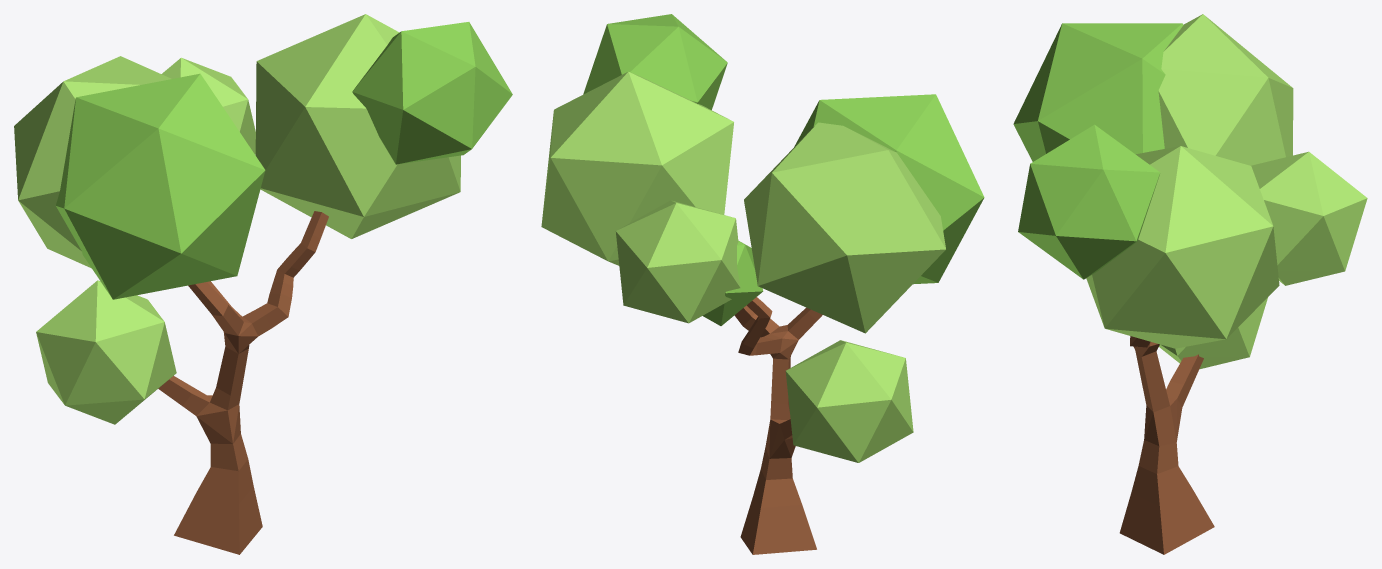
The model's file is arvore2.fbx.
3 renders of one model, left to right at view 1: azimuth 30°, elevation 25°; view 2: azimuth 150°, elevation 25°; view 3: azimuth 270°, elevation 25°, orthographic. The views are drawn at different scales.
Visible parts, largest first — view 1: Icosphere.004, Icosphere.005, Icosphere.002, Cube.002, Icosphere.003, Icosphere.012, Icosphere.014; view 2: Icosphere.012, Icosphere.005, Icosphere.003, Icosphere.014, Icosphere.004, Cube.002, Icosphere.002, Icosphere.007; view 3: Icosphere.005, Icosphere.004, Icosphere.012, Icosphere.002, Cube.002, Icosphere.014, Icosphere.003.
Part boxes in pixels (box(x1,y1,x2,y2)): Icosphere.004: box(55, 73, 265, 299); Icosphere.005: box(255, 14, 460, 238); Icosphere.002: box(352, 22, 512, 164); Cube.002: box(158, 211, 328, 554); Icosphere.003: box(36, 280, 176, 424); Icosphere.012: box(14, 56, 171, 268); Icosphere.014: box(161, 57, 255, 154); Icosphere.012: box(744, 122, 945, 333); Icosphere.005: box(541, 71, 733, 265); Icosphere.003: box(785, 340, 913, 462); Icosphere.014: box(615, 200, 740, 323); Icosphere.004: box(794, 94, 984, 284); Cube.002: box(734, 297, 822, 554); Icosphere.002: box(583, 14, 727, 109); Icosphere.007: box(703, 240, 763, 325); Icosphere.005: box(1086, 146, 1279, 348); Icosphere.004: box(1013, 23, 1183, 161); Icosphere.012: box(1158, 14, 1293, 165); Icosphere.002: box(1018, 124, 1160, 279); Cube.002: box(1119, 336, 1214, 554); Icosphere.014: box(1251, 151, 1367, 285); Icosphere.003: box(1159, 297, 1267, 369).
Bounding box in the file's own units: 592 × 650 × 436.
